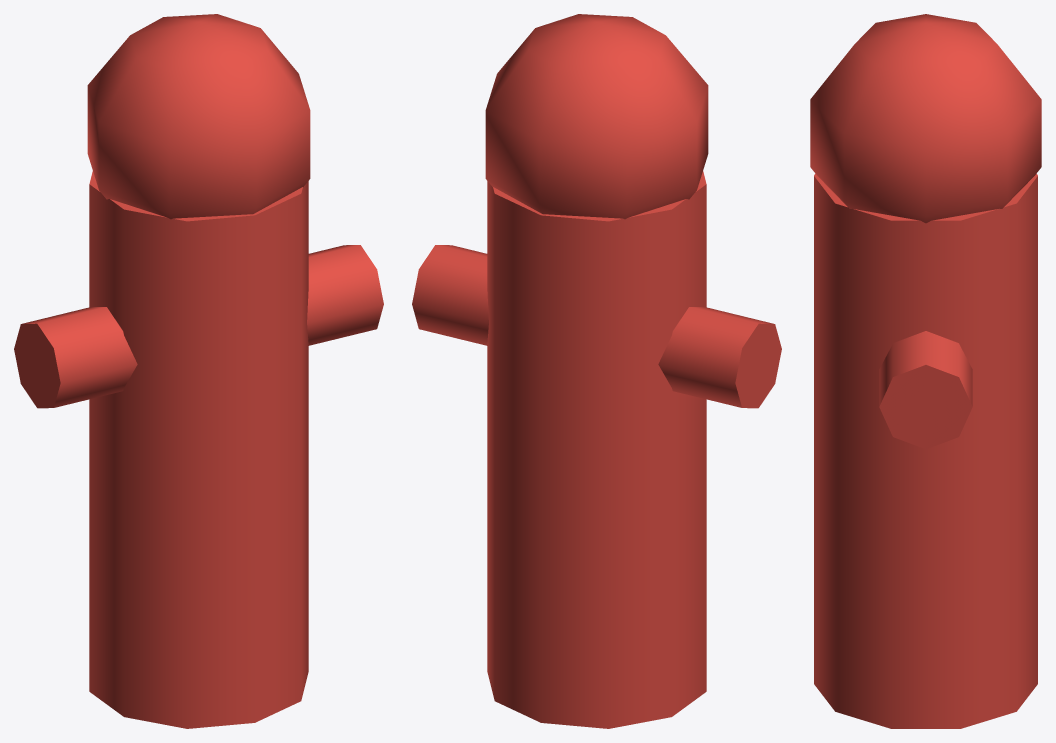
The model's file is hydrant.glb.
The picture shows the model from 3 angles, left to right: view 1: azimuth 30°, elevation 25°; view 2: azimuth 150°, elevation 25°; view 3: azimuth 270°, elevation 25°; orthographic projection.
Parts seen in each view (by area): view 1: hydrant; view 2: hydrant; view 3: hydrant.
Part boxes in pixels (x1,y1,x2,y2): hydrant: (14, 14, 383, 728); hydrant: (412, 14, 781, 728); hydrant: (810, 14, 1041, 728).
Size of the model in its own units: 0.4 by 0.78 by 0.2473.
